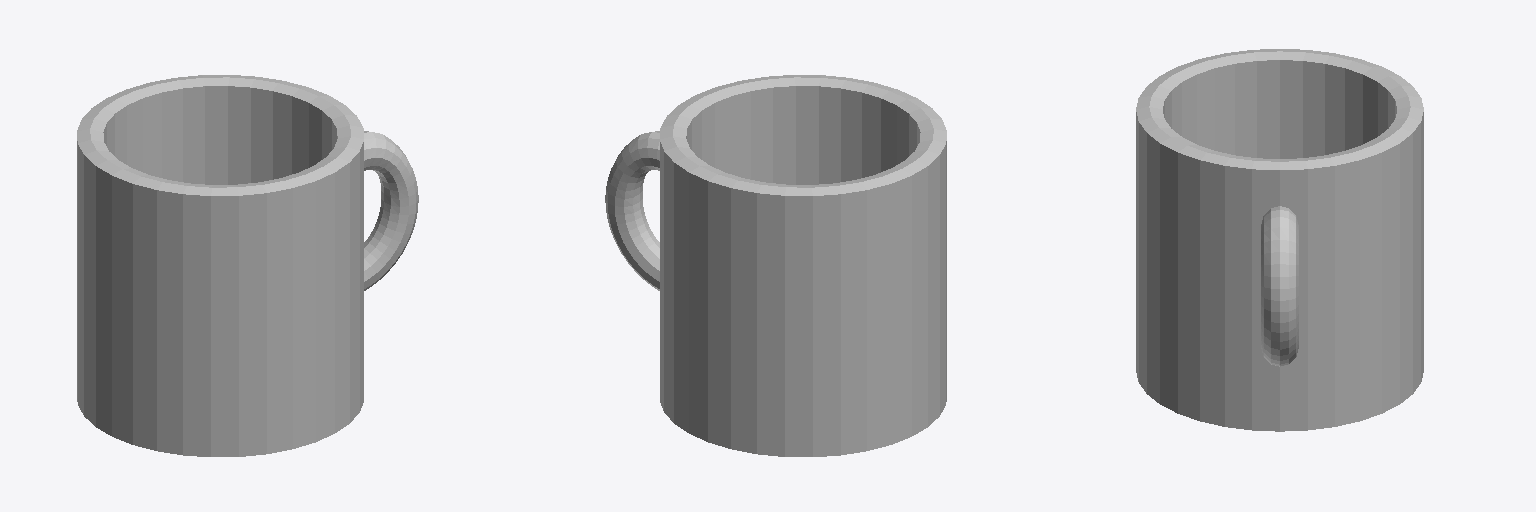
File: кружка2.obj
3 views of the same model, side by side, from view 1: azimuth 30°, elevation 25°; view 2: azimuth 150°, elevation 25°; view 3: azimuth 270°, elevation 25° (orthographic).
Visible parts, largest first — view 1: Cylinder.001; view 2: Cylinder.001; view 3: Cylinder.001.
Boxes of the visible parts, box(x1,y1,x2,y2) form: Cylinder.001: box(77, 75, 418, 456); Cylinder.001: box(605, 75, 946, 456); Cylinder.001: box(1136, 49, 1423, 431).
Size of the model in its own units: 1.33 by 1.04 by 1.03.